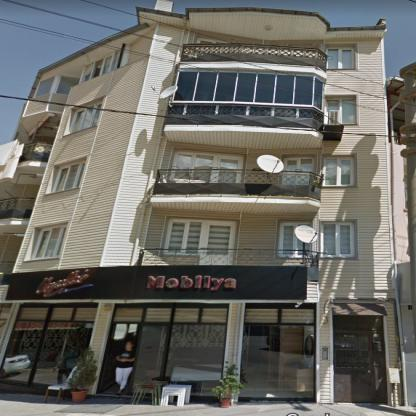door: (334, 330, 387, 404), (200, 220, 237, 265)
window: (112, 305, 228, 394), (1, 303, 98, 388), (238, 306, 315, 400), (172, 71, 324, 111), (170, 151, 243, 183), (164, 219, 203, 254), (30, 225, 67, 260), (321, 222, 356, 258), (80, 50, 118, 83), (278, 223, 312, 256), (51, 162, 86, 193), (34, 74, 80, 97), (322, 158, 354, 186), (68, 108, 100, 134), (282, 158, 313, 184), (326, 98, 356, 124), (333, 315, 382, 330), (327, 47, 354, 69), (1, 304, 12, 338), (198, 38, 226, 43), (89, 102, 101, 108)
